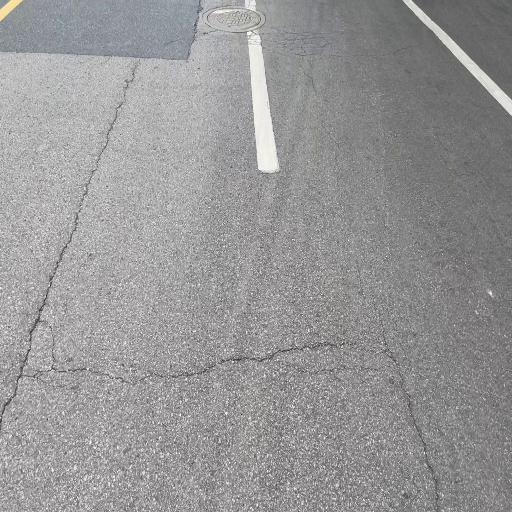Melintang: (42, 329, 380, 403)
Memanjang: (0, 58, 159, 474), (375, 338, 461, 512)
Sambungan: (0, 0, 199, 59)
